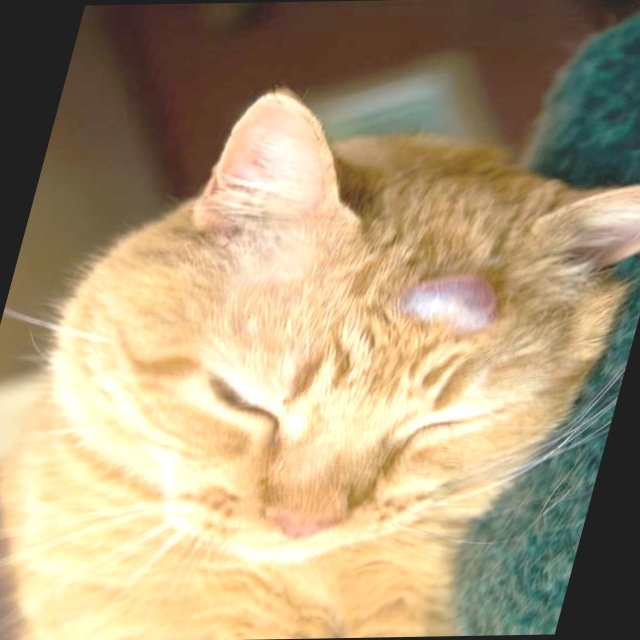lump_and_bump: (395, 275, 514, 328)
